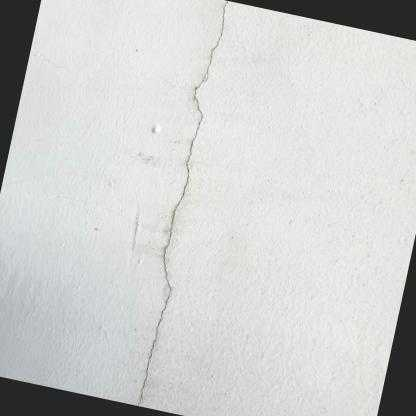crack: (134, 0, 226, 406)
